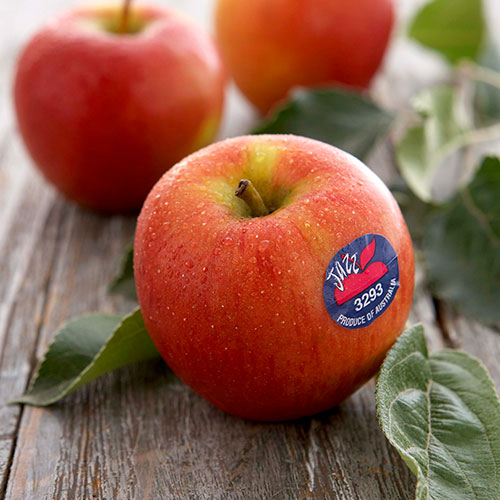apple: (134, 134, 416, 417)
